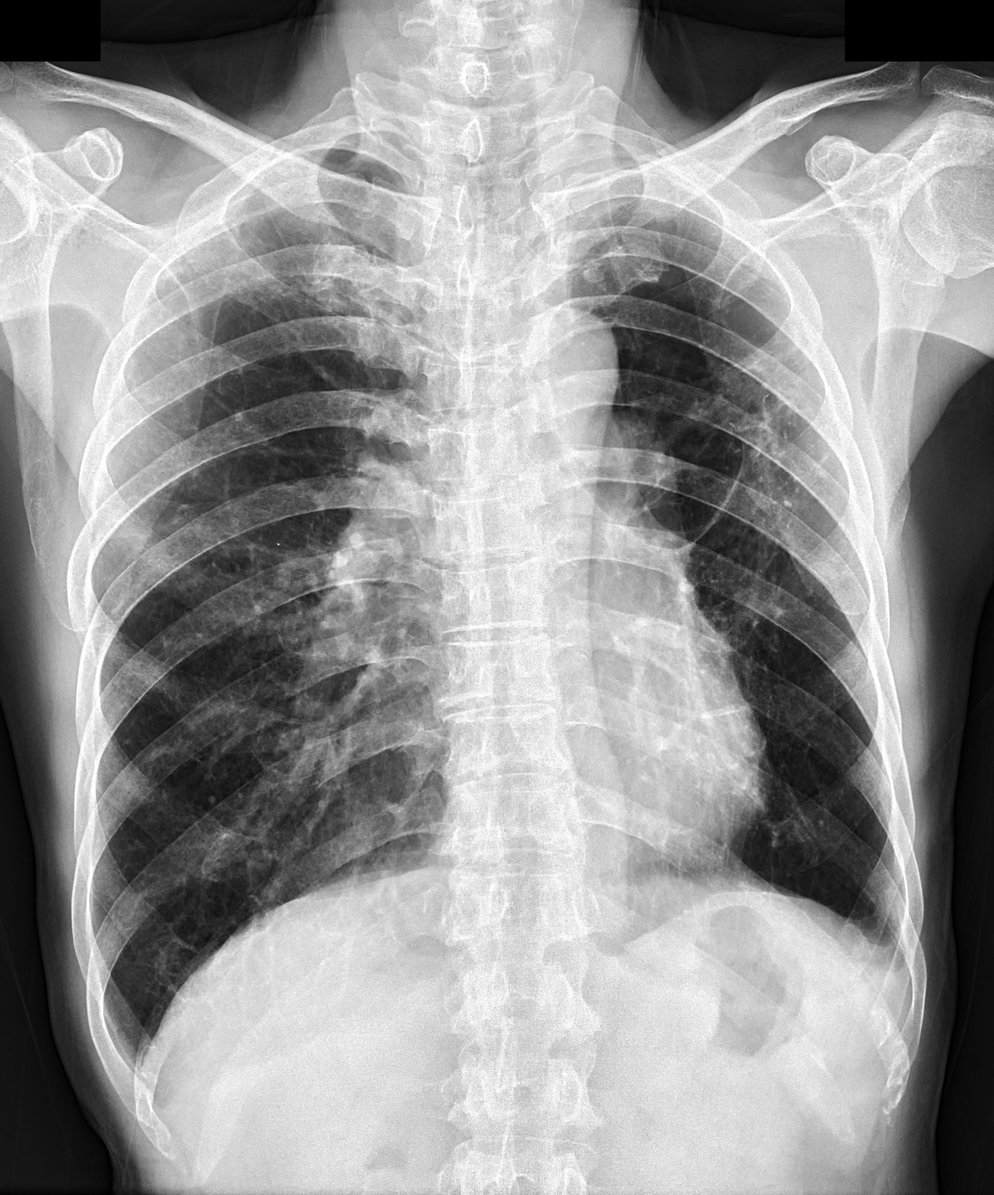Aortic enlargement: (503, 304, 618, 438)
Pleural thickening: (847, 919, 907, 978)
Pulmonary fibrosis: (683, 405, 787, 564)
